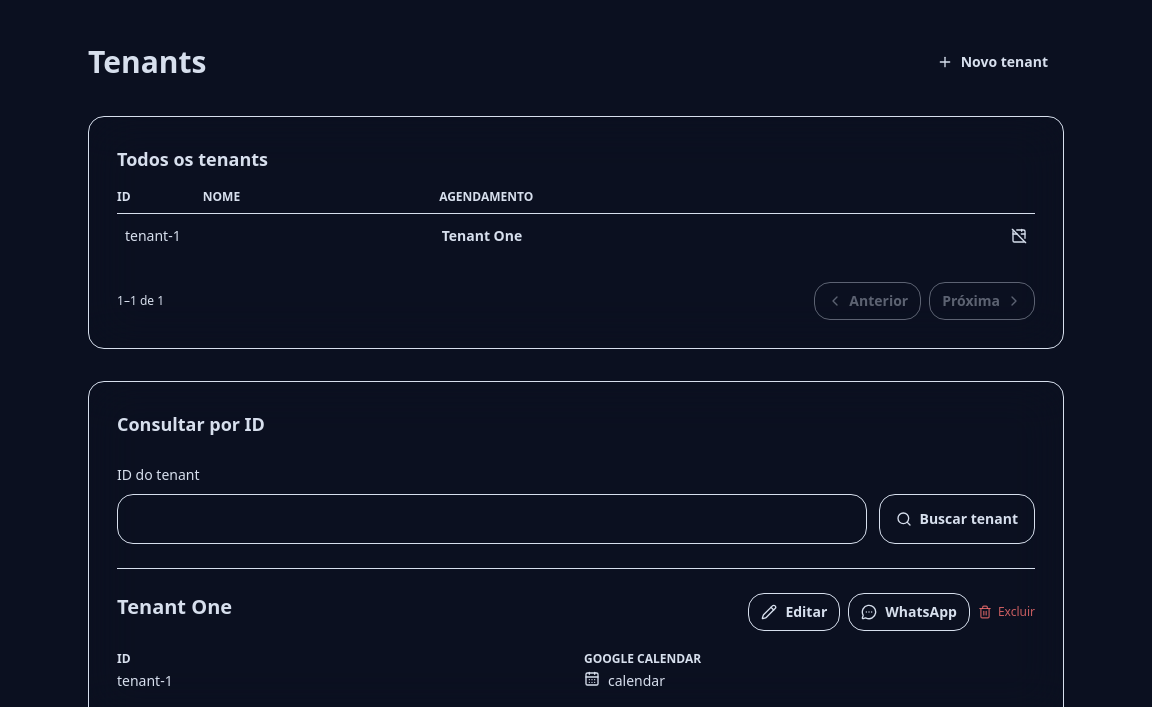
TenantManagement › pre-fills the edit form with the tenant's saved monthly_message_limit and notification_emails (EDI-63)
Click the button "Editar".
click(794, 612)  # box [748, 593, 840, 631]
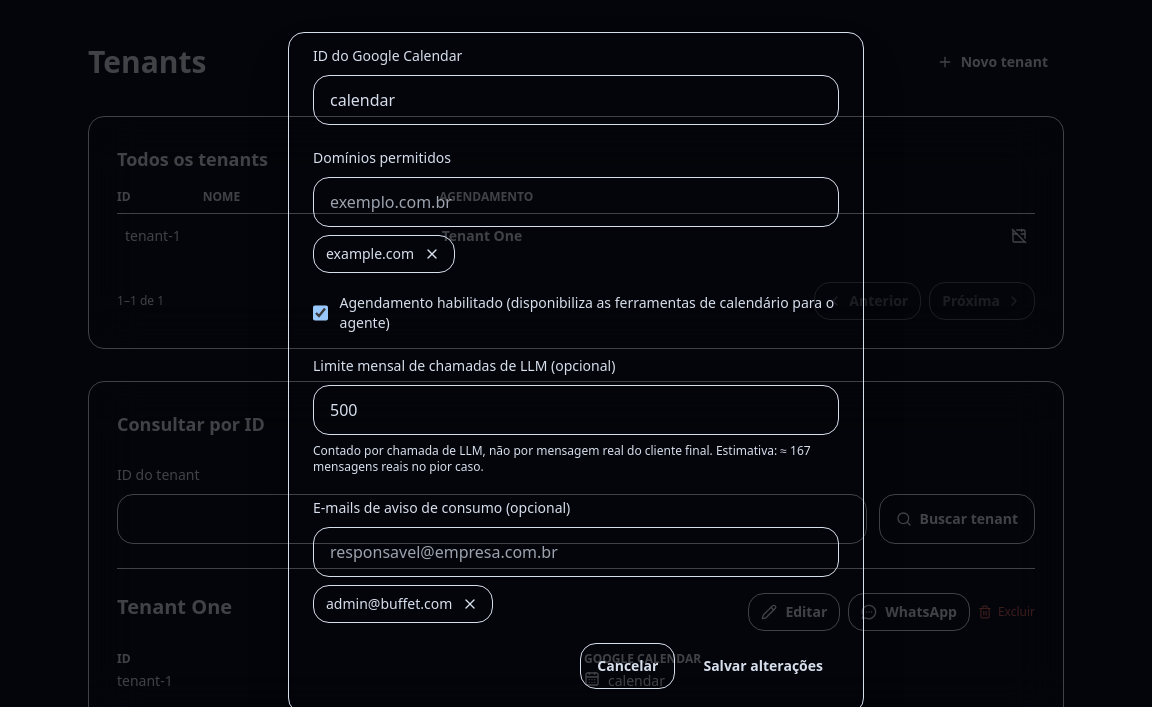
Result: the number field labelled "Limite mensal de chamadas de LLM (opcional)" holds "500" at [313, 385, 839, 435]
Result: the text "admin@buffet.com" is shown at [326, 594, 452, 614]
